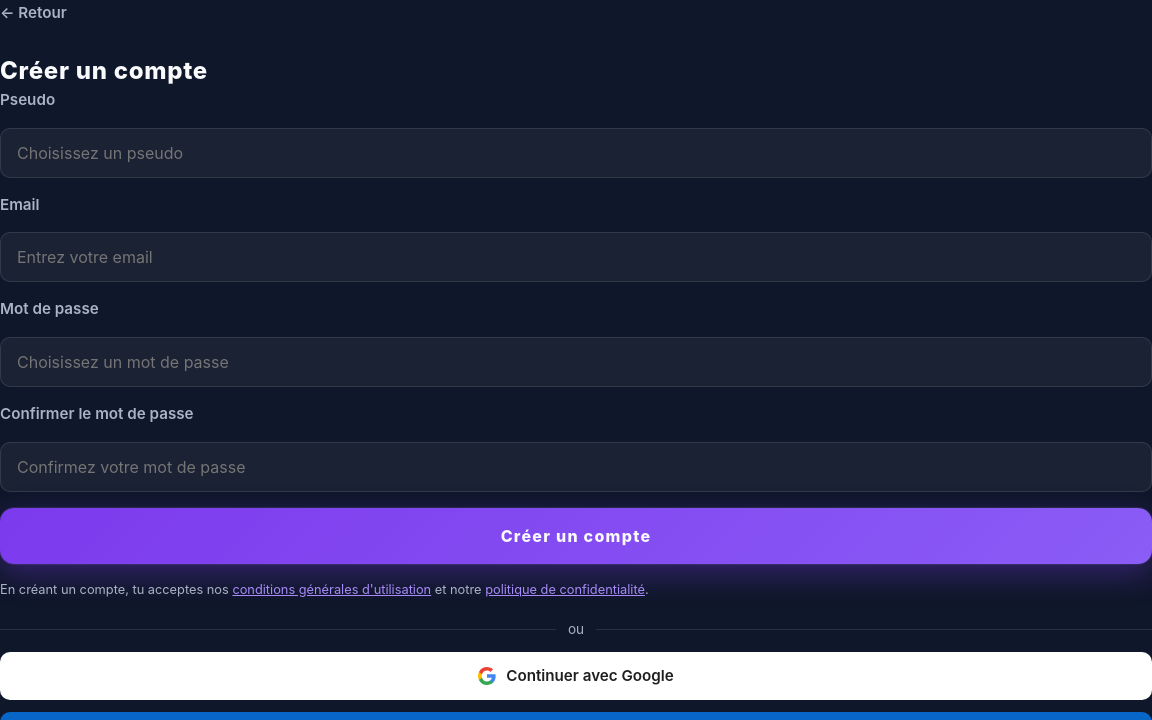
Scenario: RegisterForm › affiche le message d'erreur du serveur si register échoue et ne navigue pas
This screenshot has width=1152, height=720.
Type "joueur1" into the field labelled "Pseudo" at (576, 153), box [0, 128, 1151, 178]
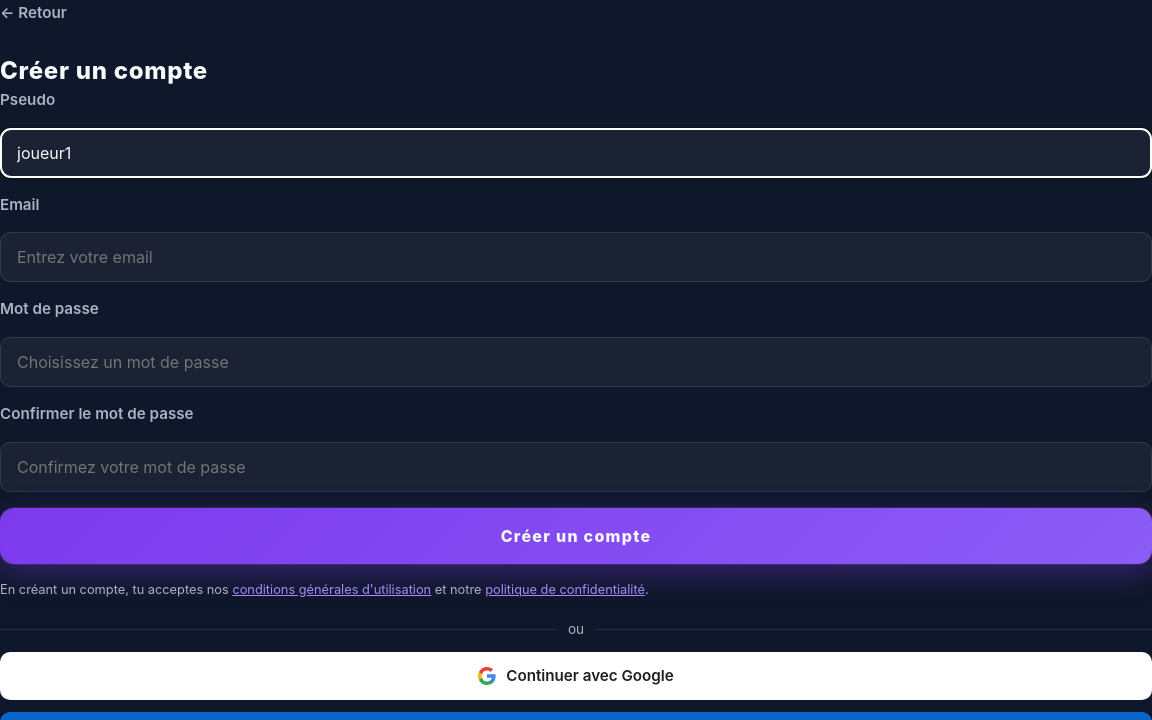
Type "joueur1@lexora.fr" into the field labelled "Email" at (576, 257), box [0, 232, 1151, 282]
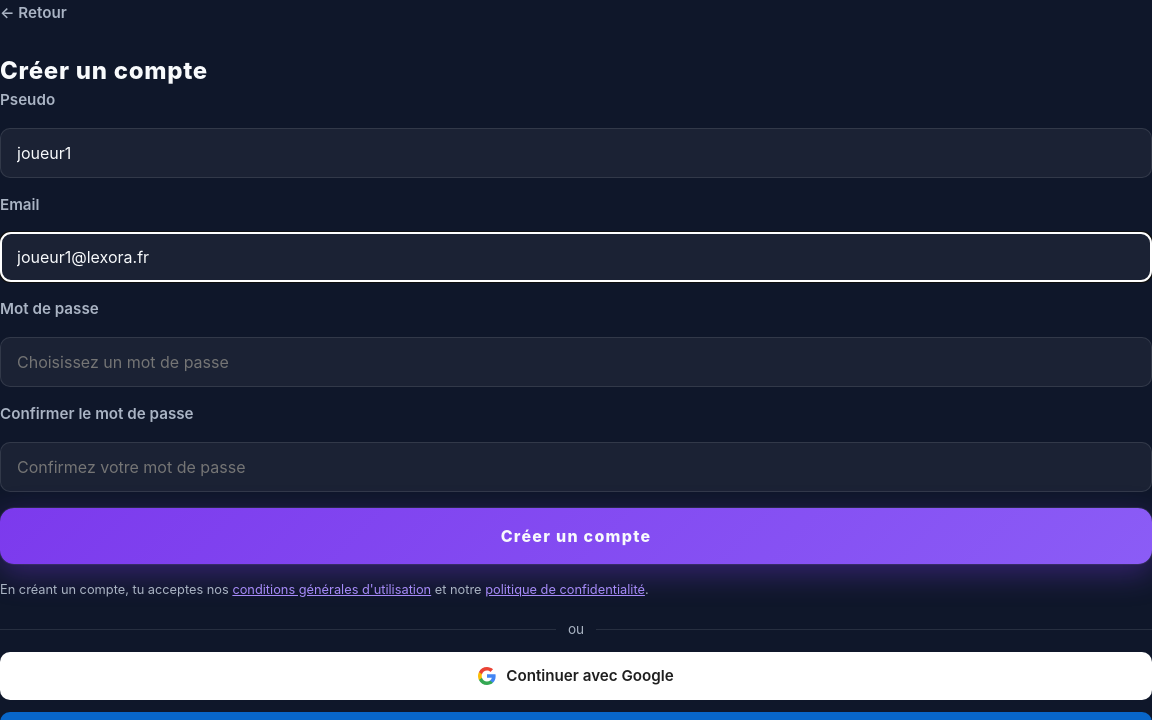
Type "motdepasse123" into the password field labelled "Mot de passe" at (576, 362), box [0, 337, 1151, 387]
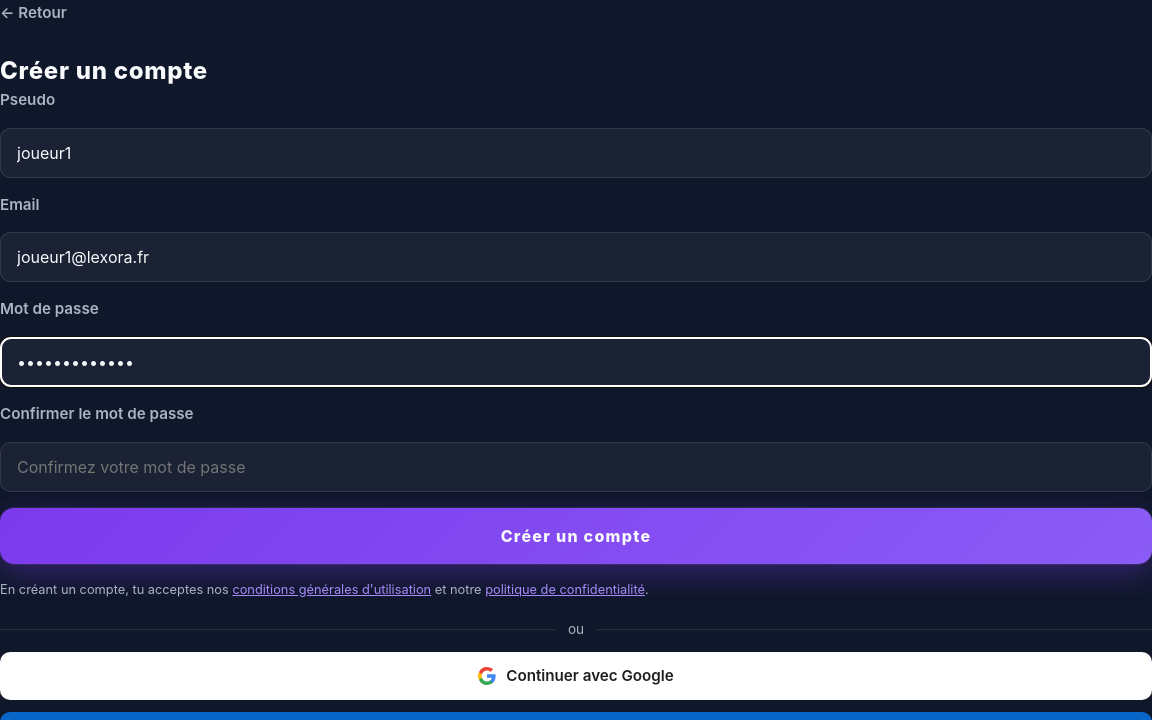
Type "motdepasse123" into the password field labelled "Confirmer le mot de passe" at (576, 467), box [0, 442, 1151, 492]
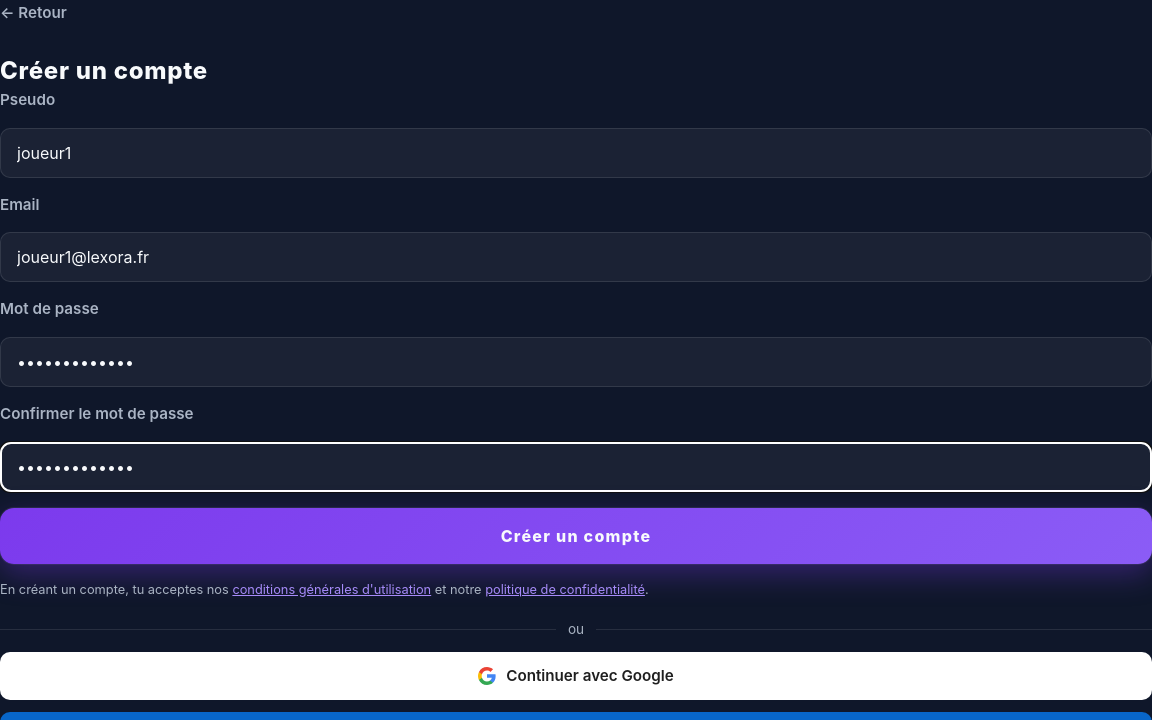
Click the button "Créer un compte" at (576, 536), box [0, 508, 1151, 564]
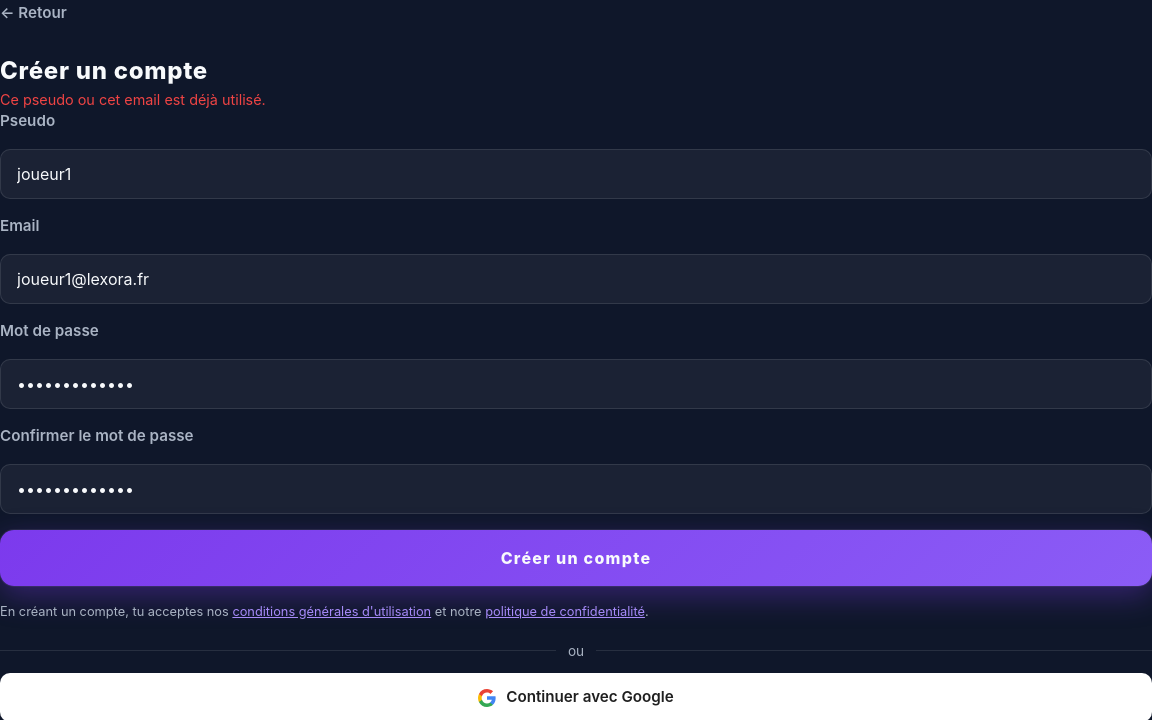
Now the message reads "Ce pseudo ou cet email est déjà utilisé.", box [0, 91, 266, 108]
